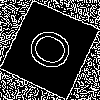O: (24, 24, 84, 79)
